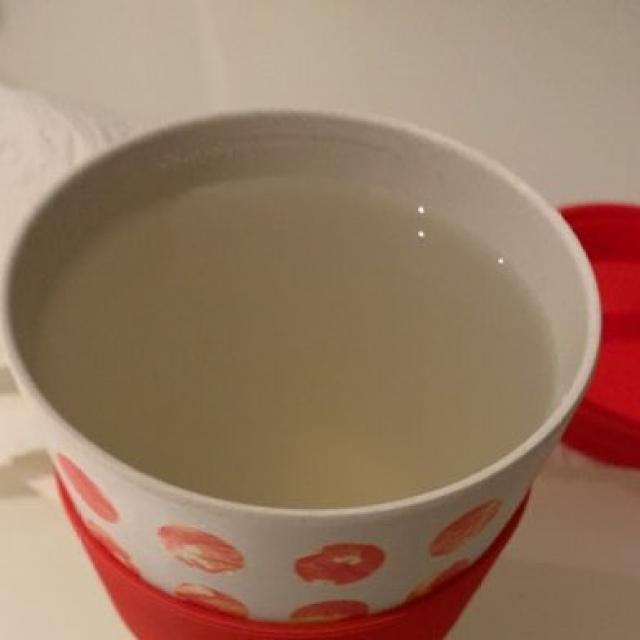glucose-drink-50g: (43, 179, 551, 498)
